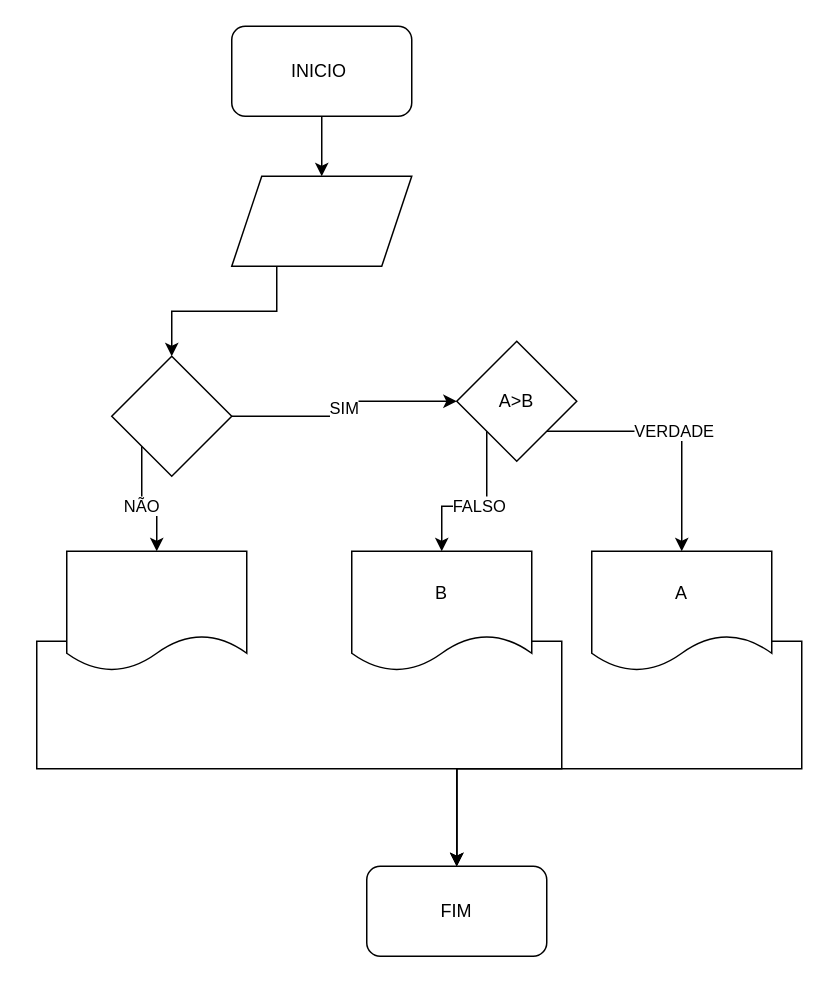
The diagram is 840 pixels wide and 983 high, and some of its shapes have lost their labels. The shapes that lost their labels are listed below. From the top down, each one's centre as x and y in pixels, then its label:
At [321,220]: "A=2 B=5".
At [171,415]: "A<>B".
At [156,610]: "A=B".
